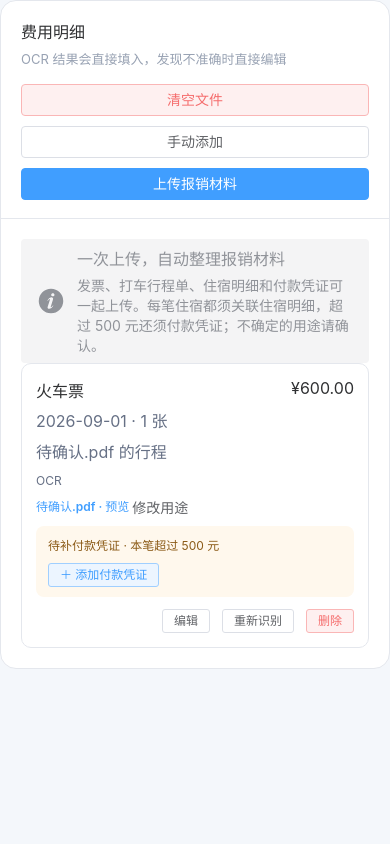
Test case: ExpenseItemsCard durable files › allows unknown rail evidence but explains known non-rail evidence when category is corrected from local_transport
Click the button "编辑".
click(186, 621)  # box [162,609,210,633]
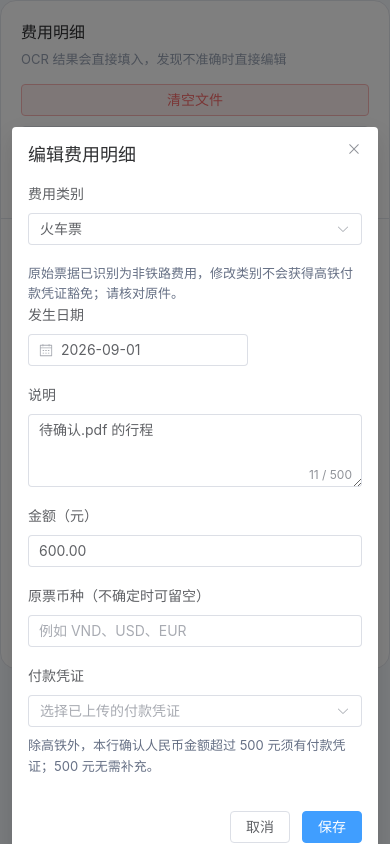
Result: the text "修改类别不会获得高铁付款凭证豁免" is shown at [28,265,353,301]
